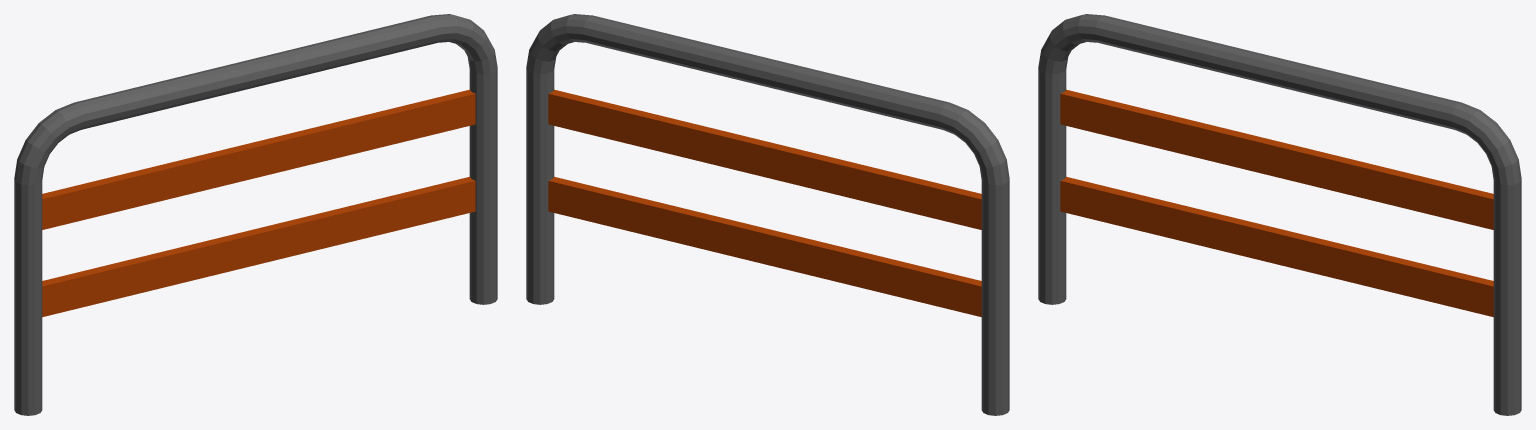
Rendered from Grandstand Railing.fbx.
The picture shows the model from 3 angles, left to right: view 1: azimuth 30°, elevation 25°; view 2: azimuth 150°, elevation 25°; view 3: azimuth 330°, elevation 25°; orthographic projection.
Parts seen in each view (by area): view 1: Grandstand Railing; view 2: Grandstand Railing; view 3: Grandstand Railing.
Boxes of the visible parts, left/top/right/bottom form: Grandstand Railing: left=14, top=14, right=497, bottom=415; Grandstand Railing: left=526, top=14, right=1009, bottom=415; Grandstand Railing: left=1038, top=14, right=1521, bottom=415.
Size of the model in its own units: 980 by 575 by 50.
